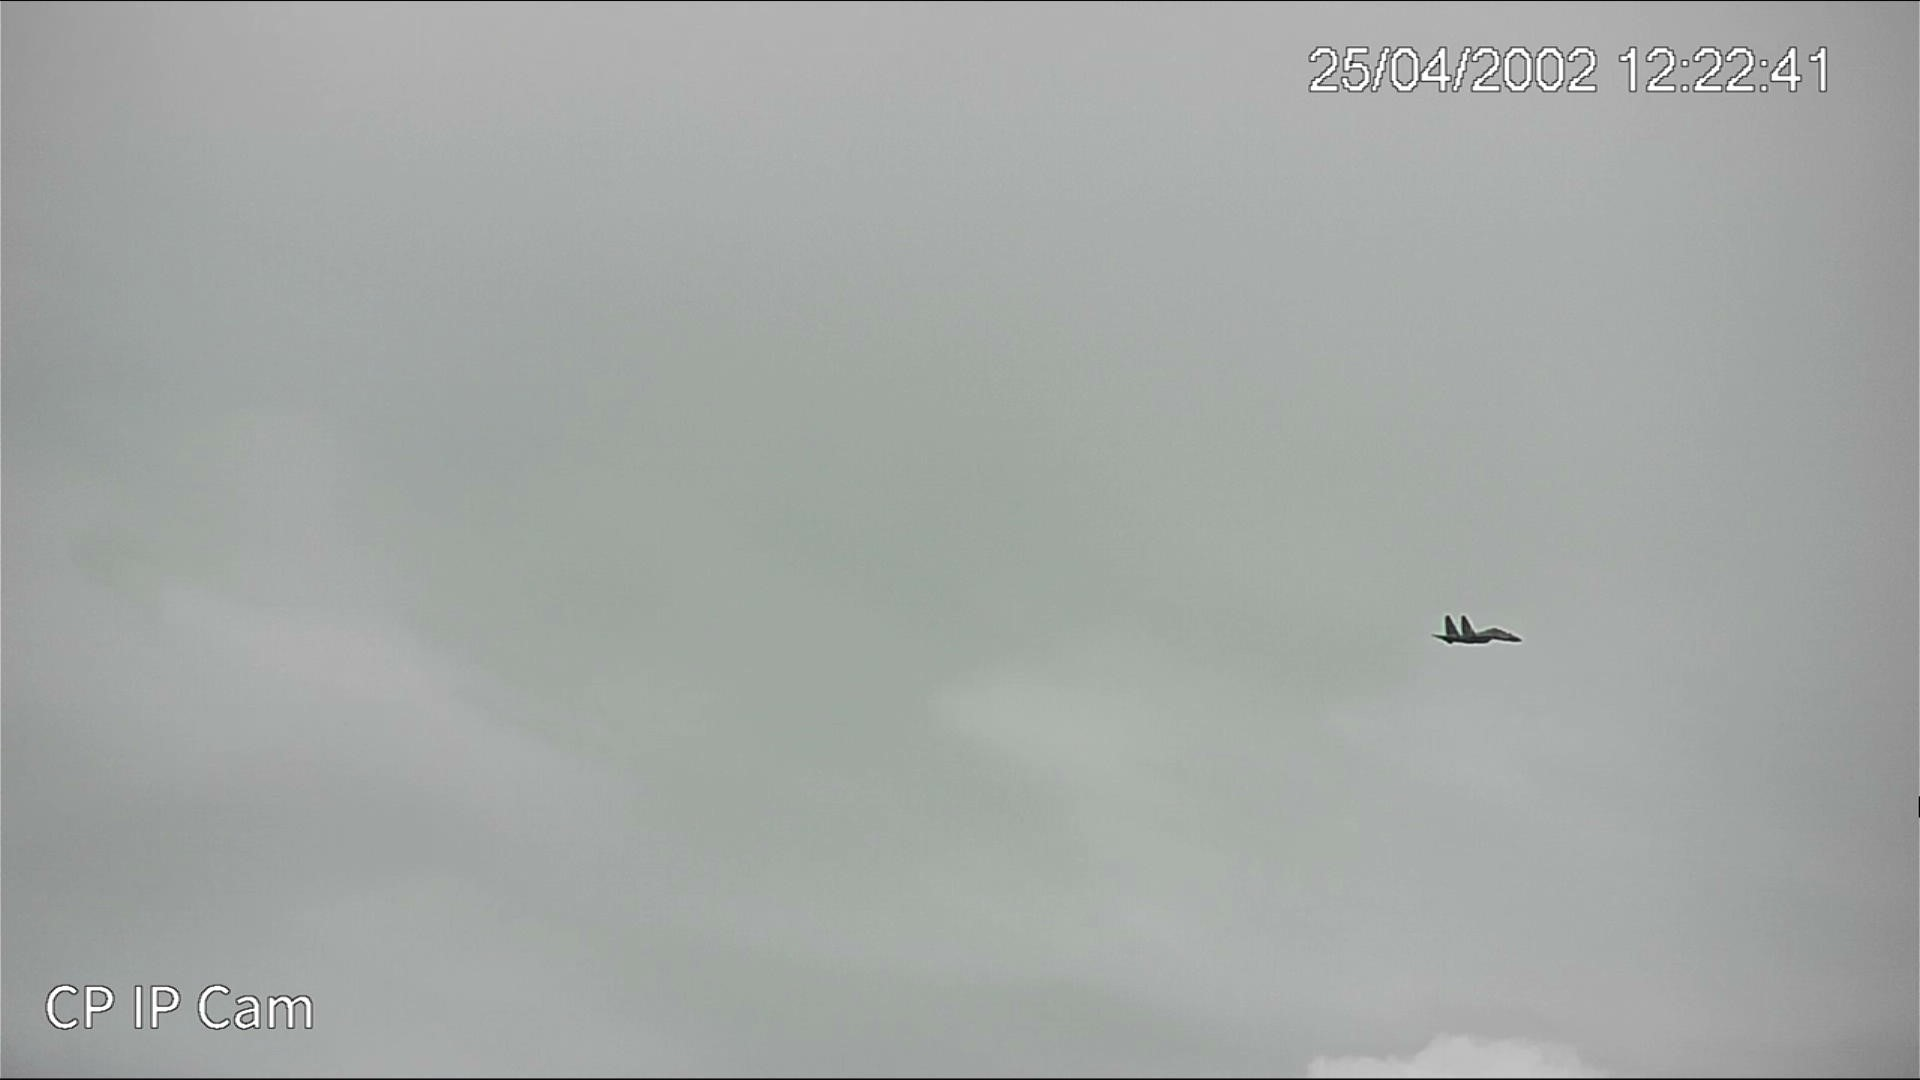SU_30: (1425, 617, 1527, 649)
